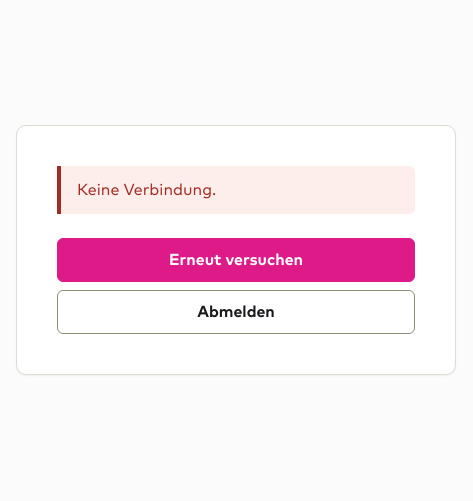
Test: Wiederholen-Bildschirm › bietet Abmelden an: Schlüssel weg, Anmeldung sichtbar
Expected: the button "Erneut versuchen" is shown, [57, 238, 415, 282]
Click the button "Abmelden": (236, 312) [57, 290, 415, 334]
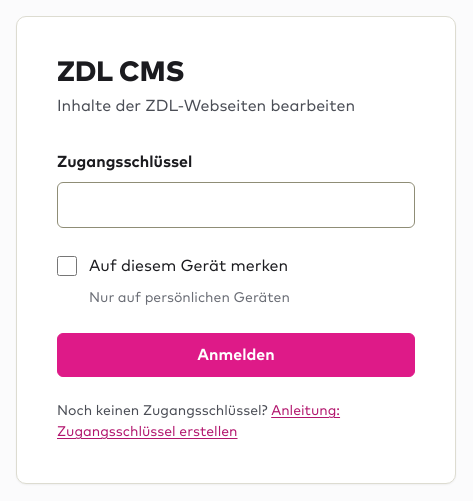
Expected: the password field labelled "Zugangsschlüssel" is shown, [57, 182, 415, 228]
